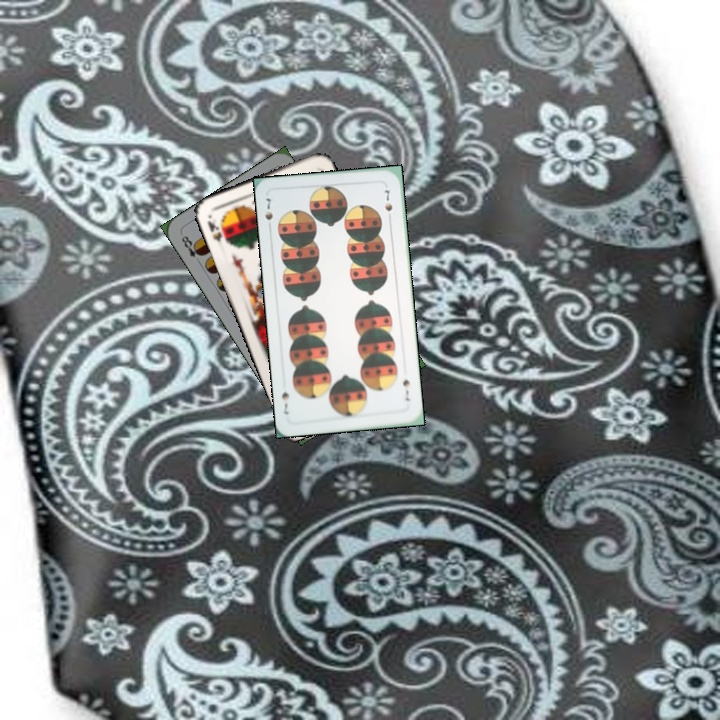E8: (177, 231, 205, 267)
S7: (261, 194, 275, 233), (399, 375, 412, 404)
SK: (203, 211, 231, 246)
